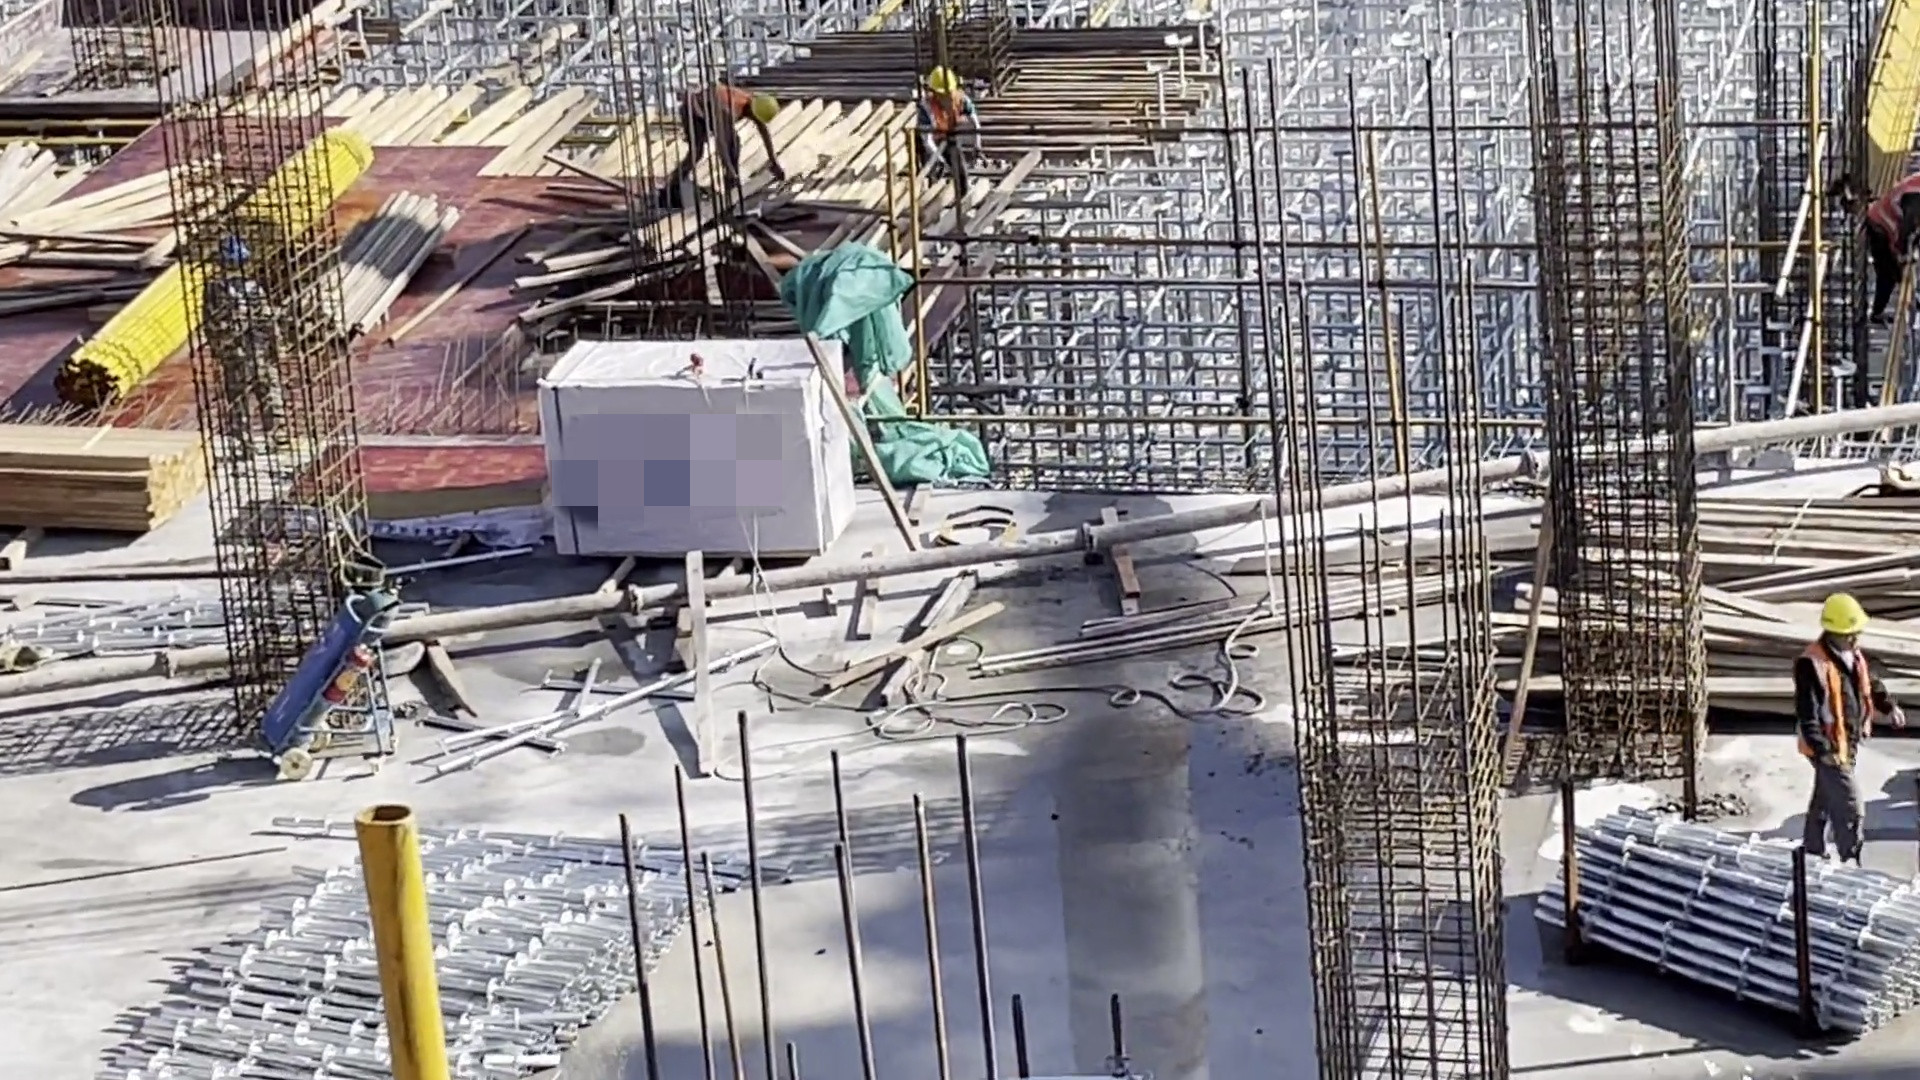helmet: (1818, 589, 1876, 636), (923, 64, 962, 101), (749, 92, 782, 124)
person: (1790, 591, 1906, 869), (209, 236, 304, 457), (670, 89, 792, 196), (905, 69, 987, 184), (1867, 173, 1920, 327)
scaffold: (105, 829, 792, 1080), (1520, 801, 1920, 1059)
vest: (1801, 637, 1879, 773), (1869, 175, 1920, 255)
wood: (1, 413, 208, 556), (1, 137, 188, 283)
